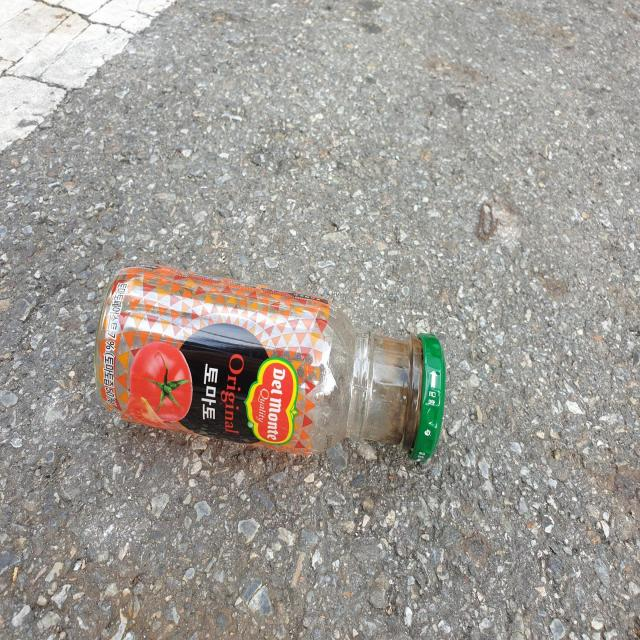glass: (94, 265, 445, 461)
